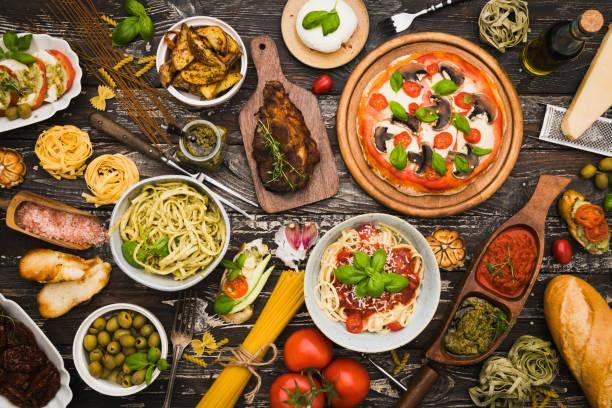Braised Crucian Carp: (336, 31, 519, 216), (303, 213, 438, 352), (237, 33, 337, 215), (108, 176, 227, 289), (71, 302, 165, 397), (156, 14, 247, 108)
